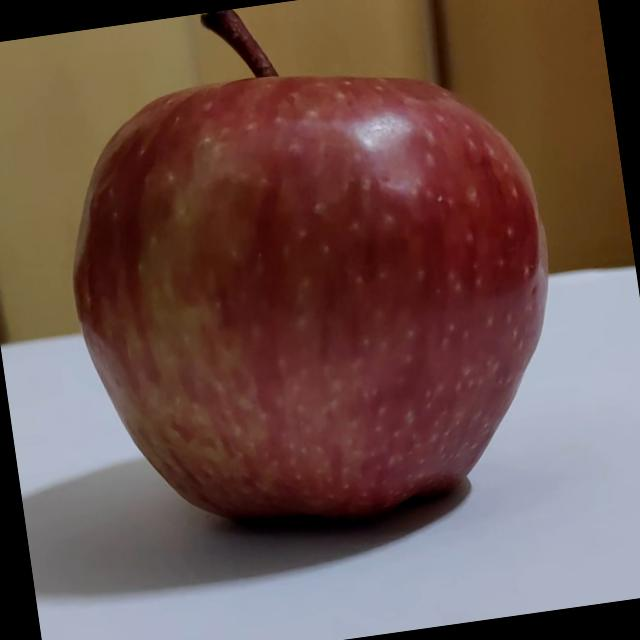apple: (30, 0, 584, 565)
